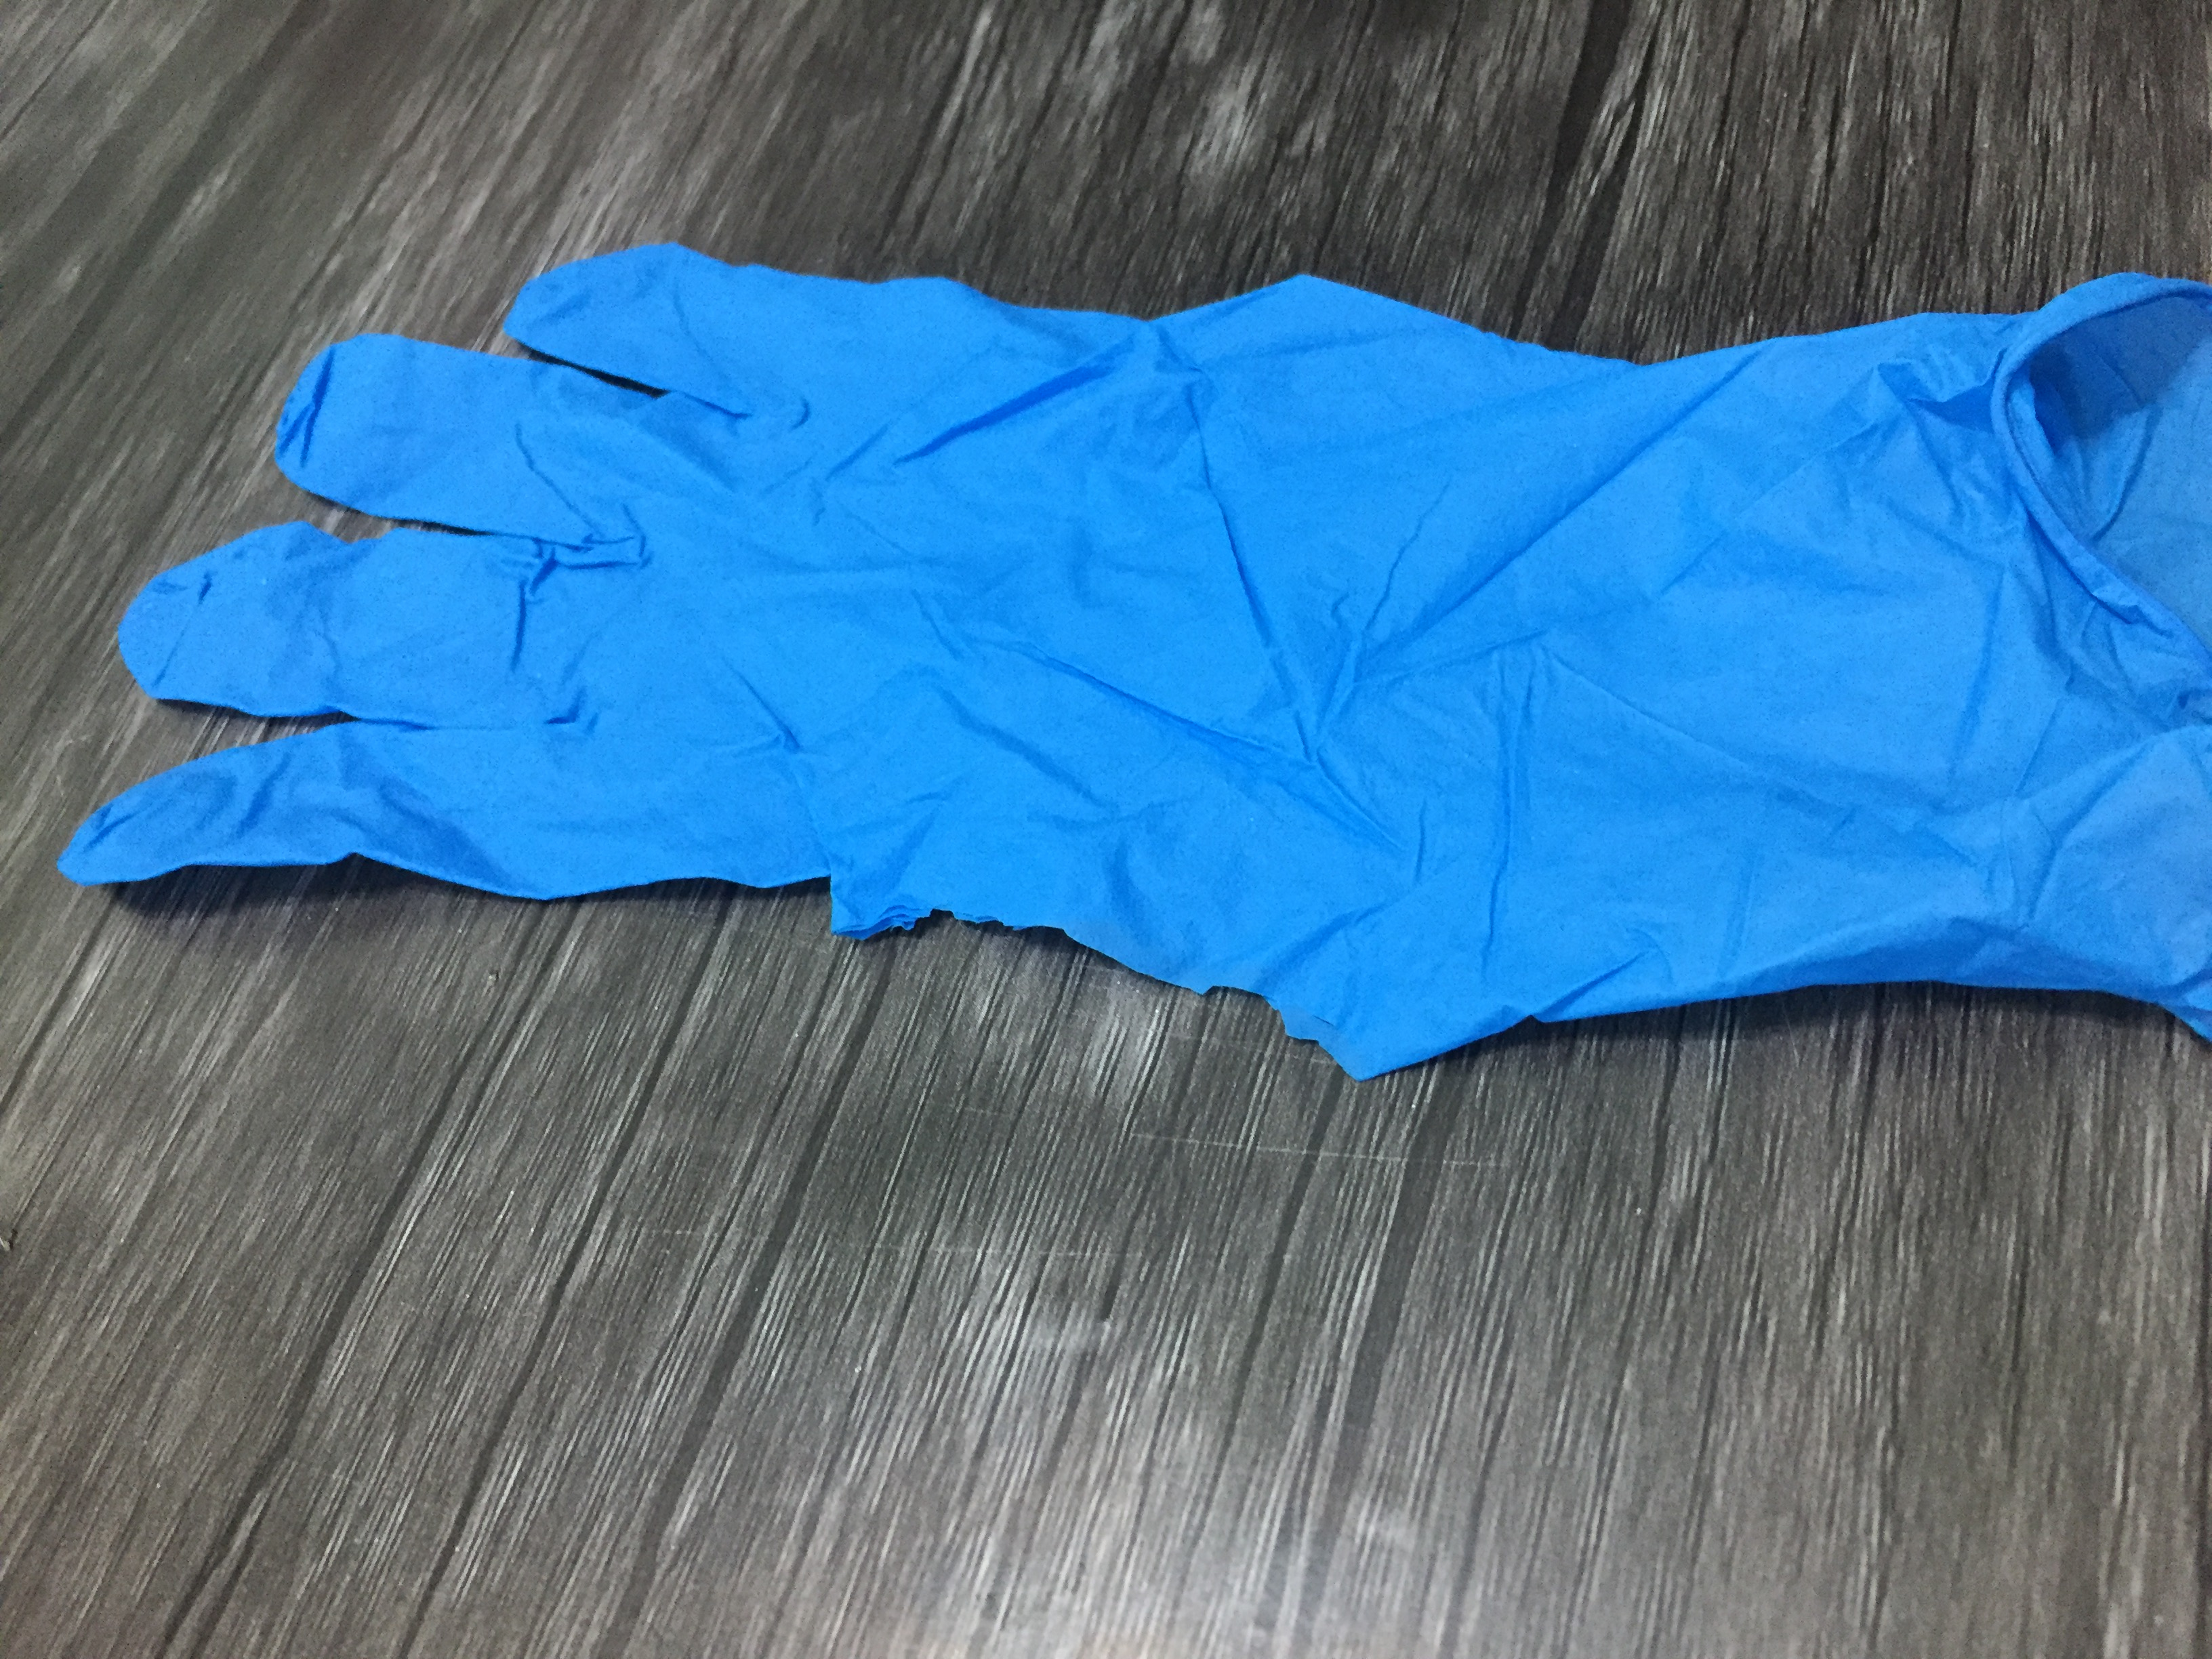defected: (87, 251, 2212, 1141)
